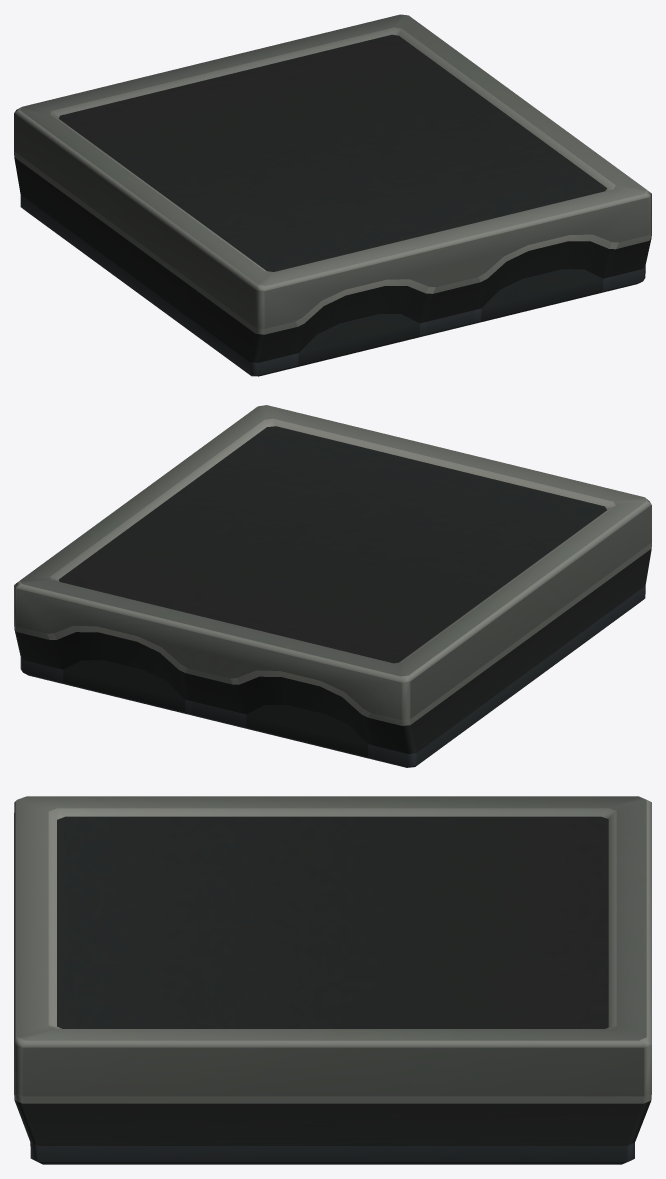
The model's file is appartment_type1_roof_type1_x4_flat_cream.fbx.
The picture shows the model from 3 angles, top to bottom: view 1: azimuth 30°, elevation 25°; view 2: azimuth 150°, elevation 25°; view 3: azimuth 270°, elevation 25°; orthographic projection. The views are drawn at different scales.
Visible parts, largest first — view 1: appartment_type1_roof_type1_x4_flat_cream; view 2: appartment_type1_roof_type1_x4_flat_cream; view 3: appartment_type1_roof_type1_x4_flat_cream.
Part boxes in pixels (box(x1,y1,x2,y2)): appartment_type1_roof_type1_x4_flat_cream: box(14, 14, 651, 376); appartment_type1_roof_type1_x4_flat_cream: box(14, 405, 651, 767); appartment_type1_roof_type1_x4_flat_cream: box(14, 796, 651, 1164).
Bounding box in the file's own units: 800 × 186 × 867.
